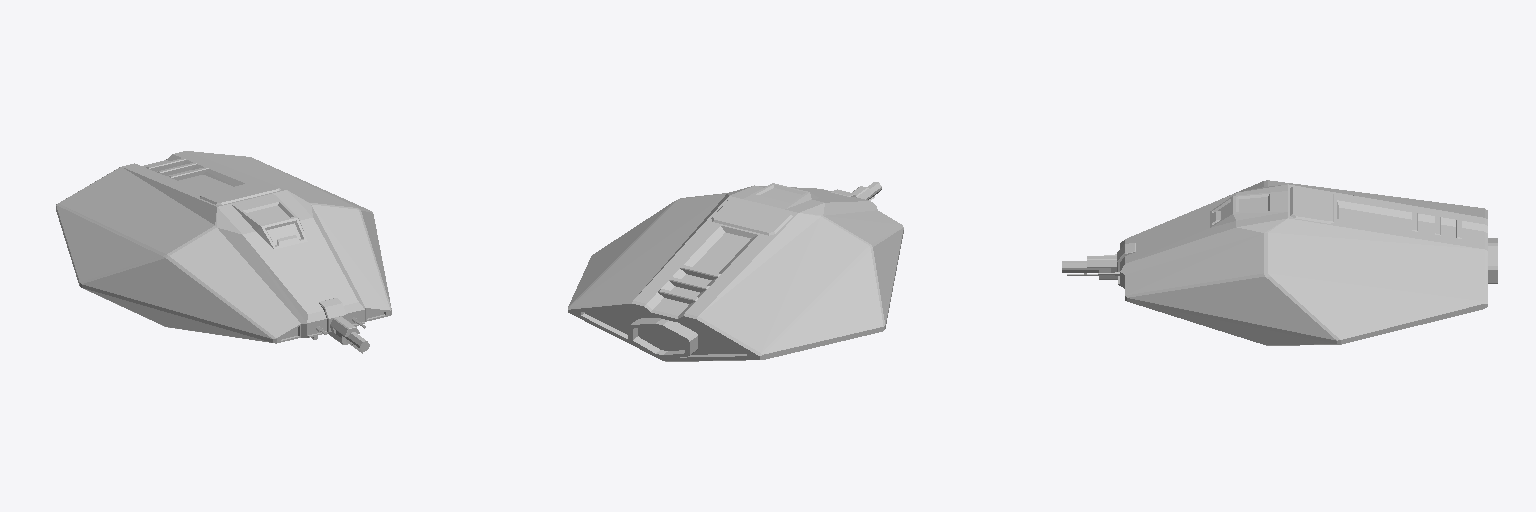
File: oolite_asp.obj
The picture shows the model from 3 angles: view 1: azimuth 30°, elevation 25°; view 2: azimuth 150°, elevation 25°; view 3: azimuth 270°, elevation 25°; orthographic projection.
Parts seen in each view (by area): view 1: asp_mk2_combined.obj; view 2: asp_mk2_combined.obj; view 3: asp_mk2_combined.obj.
Part boxes in pixels (x1,y1,x2,y2): asp_mk2_combined.obj: (56, 151, 391, 353); asp_mk2_combined.obj: (568, 182, 903, 361); asp_mk2_combined.obj: (1062, 180, 1497, 345).
Size of the model in its own units: 64.72 by 23.51 by 83.68.